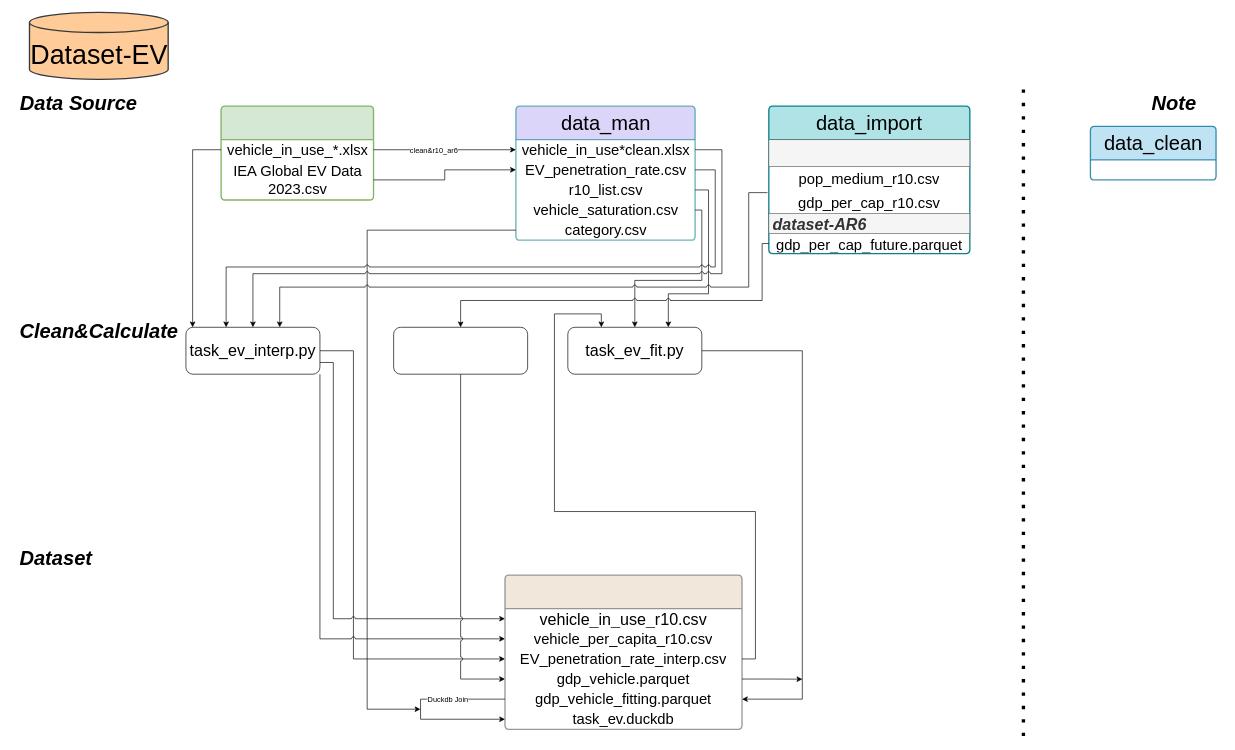
This 1235x750 diagram has some shape labels left out. The shapes that lost their labels are listed below. From the top down, each one's box as (x1, y1, x2, y2) in pixels, then its label:
(220, 105, 374, 200): data_raw
(768, 139, 970, 166): dataset-population
(393, 327, 528, 374): task_ev_merge.py
(504, 574, 742, 730): data_task
